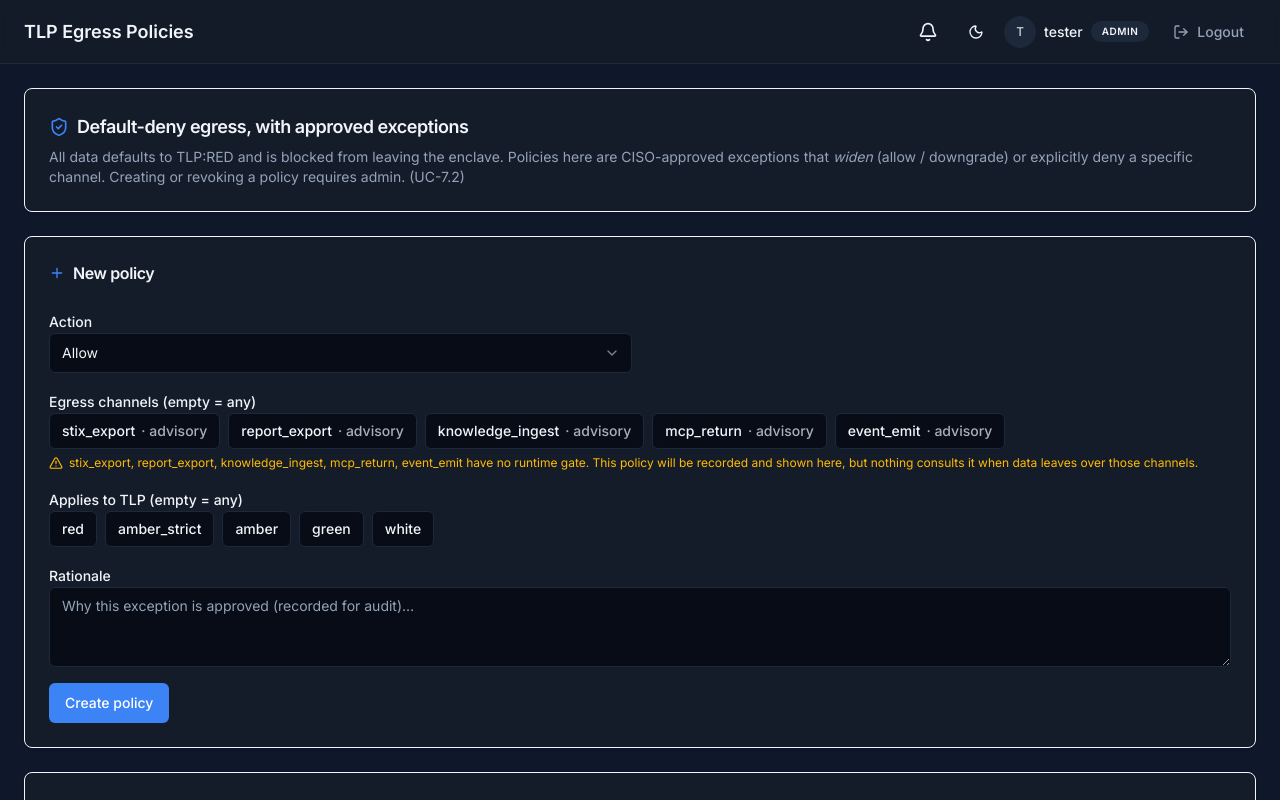
Scenario: egress channel picker › warns before creating a policy scoped to an ungoverned channel
What coordinates should you click on to do the following:
click the button with test id "egress-kind-stix_export"
I would click on:
 (135, 431)
Its box is [49,413,220,449].
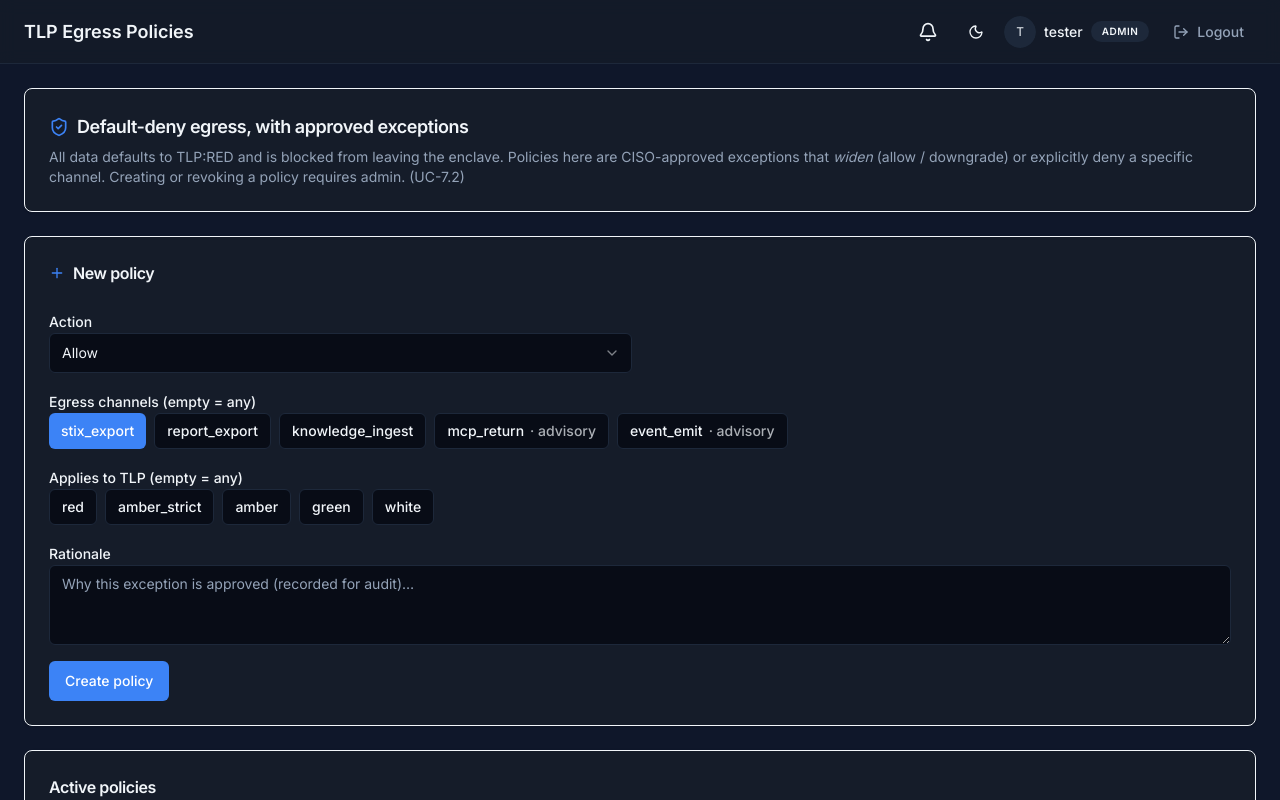
Expected: the message with test id "advisory-channel-warning" is gone
What coordinates should you click on to do the following:
click the button with test id "egress-kind-event_emit"
I would click on:
 (702, 431)
Its box is [617,413,788,449].
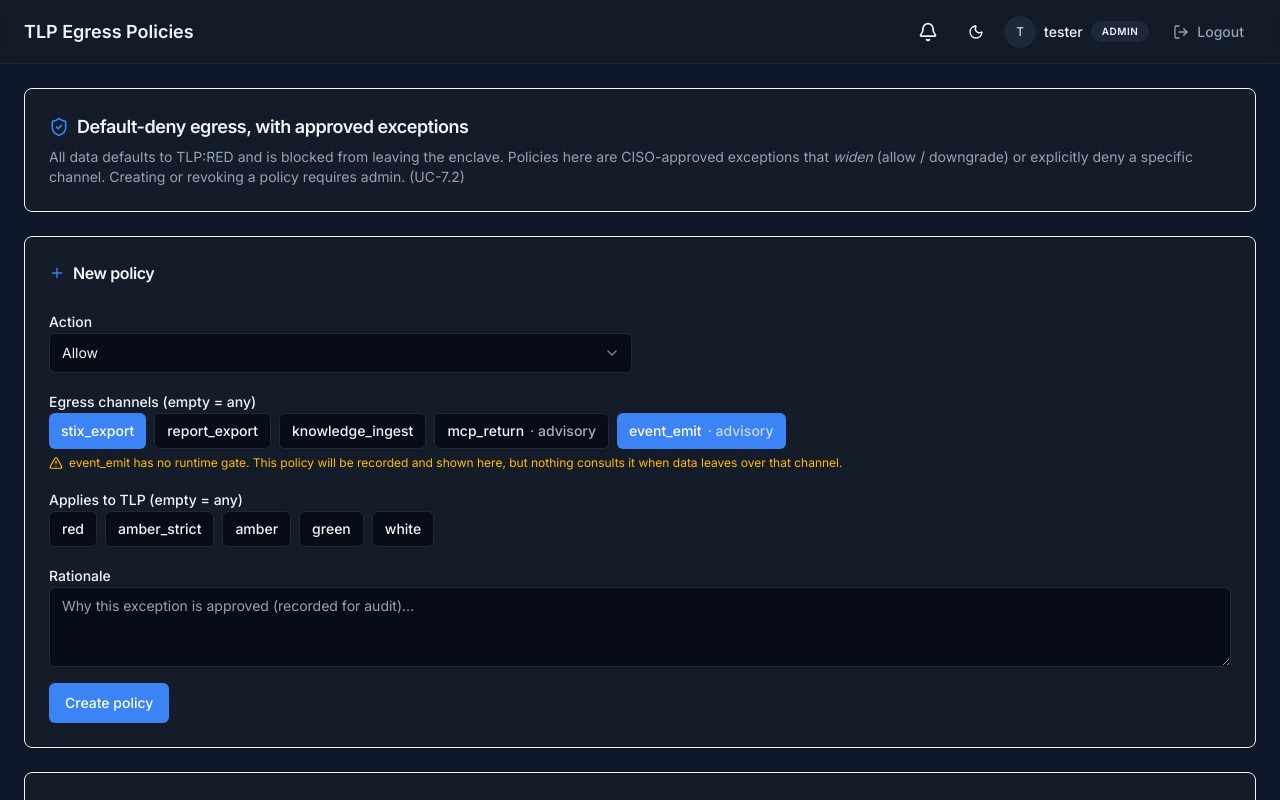
Expected: the message with test id "advisory-channel-warning" does not show "stix_export", [49,455,842,470]
Expected: the message with test id "advisory-channel-warning" shows "event_emit", [69,455,130,470]
